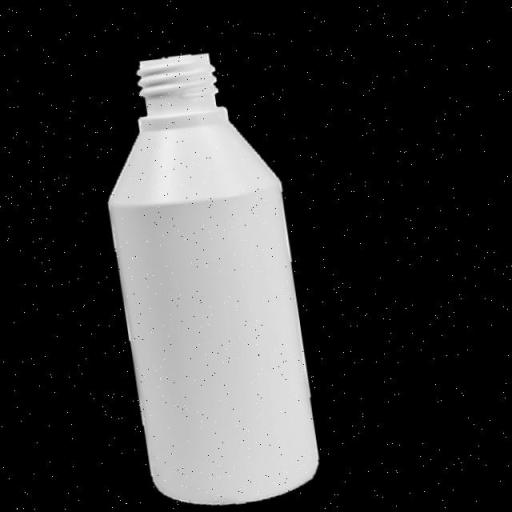plastic: (78, 31, 328, 512)
